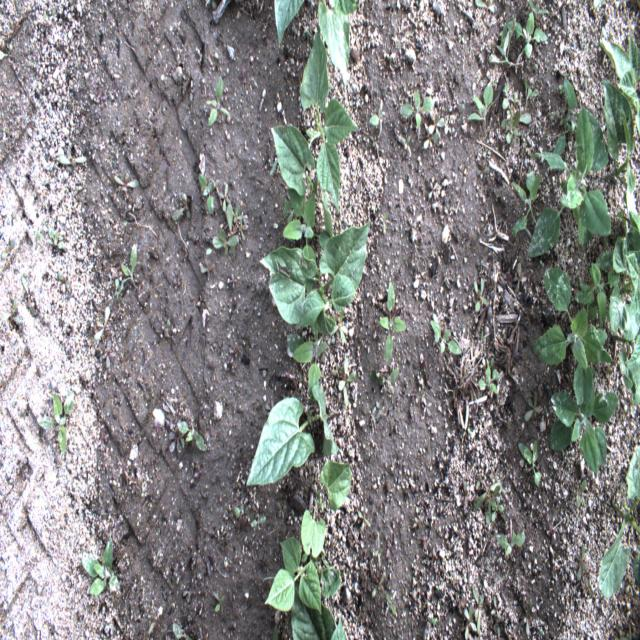crop: (260, 221, 371, 337), (300, 30, 358, 216), (246, 385, 340, 484), (271, 123, 333, 241), (598, 445, 639, 597), (265, 538, 341, 614), (600, 80, 638, 227), (301, 460, 351, 559), (600, 28, 640, 136), (593, 234, 637, 332), (612, 252, 639, 405), (287, 570, 346, 638), (318, 1, 360, 84), (274, 0, 304, 49), (616, 211, 639, 262)
weed: (527, 107, 611, 258), (531, 266, 615, 370), (550, 360, 618, 475), (282, 185, 338, 276), (574, 262, 620, 336), (287, 319, 327, 398), (509, 10, 550, 72), (378, 281, 408, 364), (37, 389, 74, 456), (80, 536, 121, 594), (511, 171, 543, 238), (552, 80, 576, 160), (489, 24, 524, 66), (399, 89, 434, 130), (473, 475, 502, 524), (207, 76, 232, 128), (467, 81, 493, 126), (431, 321, 463, 356), (175, 420, 209, 452), (116, 244, 137, 295), (518, 439, 541, 485), (198, 174, 220, 217), (338, 358, 356, 406), (479, 359, 499, 397), (211, 228, 239, 255), (495, 532, 526, 556), (500, 109, 521, 142), (1, 298, 24, 327), (232, 205, 250, 241), (473, 273, 489, 313), (21, 274, 36, 316), (471, 586, 484, 634), (368, 99, 382, 142), (369, 367, 400, 386), (94, 306, 110, 340), (513, 260, 528, 295), (171, 194, 191, 220), (523, 80, 539, 112), (524, 389, 540, 420), (427, 111, 445, 137), (464, 602, 477, 638), (45, 227, 66, 249), (371, 571, 387, 599), (506, 106, 530, 124), (168, 430, 185, 455), (574, 545, 586, 580), (219, 182, 232, 214), (172, 620, 193, 639), (114, 171, 139, 186), (200, 258, 215, 283), (357, 506, 371, 532), (489, 496, 503, 522), (528, 0, 550, 16), (1, 239, 15, 262), (577, 478, 587, 510), (338, 311, 348, 343), (490, 594, 502, 620), (501, 84, 513, 110), (57, 154, 87, 164), (422, 132, 439, 149), (473, 0, 497, 12), (58, 271, 71, 292), (250, 515, 266, 529), (214, 591, 225, 611), (386, 594, 396, 616), (428, 180, 438, 202), (226, 205, 233, 235), (422, 397, 432, 416), (235, 503, 245, 518)
